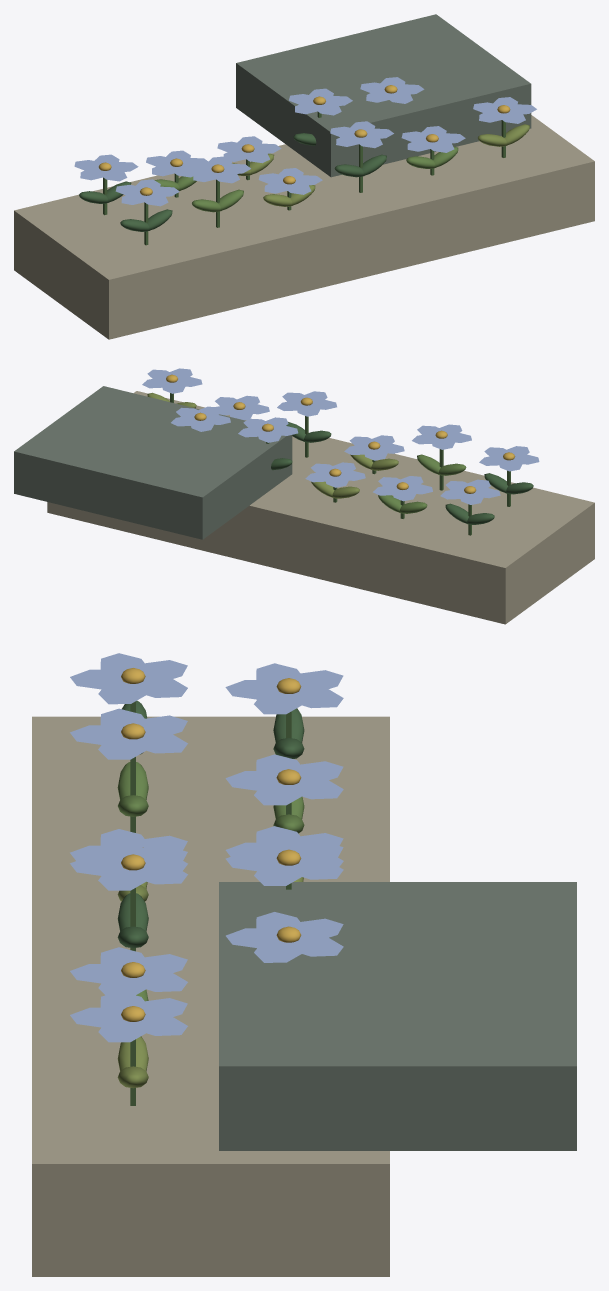
The picture shows the model from 3 angles, top to bottom: view 1: azimuth 30°, elevation 25°; view 2: azimuth 150°, elevation 25°; view 3: azimuth 270°, elevation 25°; orthographic projection. The views are drawn at different scales.
Visible parts, largest first — view 1: climb-flowers-7-0, climb-flowers-7-1, 화단 08; view 2: climb-flowers-7-0, climb-flowers-7-1, 화단 08; view 3: climb-flowers-7-0, climb-flowers-7-1, 화단 08.
Boxes of the visible parts, x1,y1,x2,y2 form: climb-flowers-7-0: (14,115,594,339); climb-flowers-7-1: (236,14,531,177); 화단 08: (74,77,536,245); climb-flowers-7-0: (47,391,594,624); climb-flowers-7-1: (14,386,292,539); 화단 08: (142,368,539,535); climb-flowers-7-0: (32,716,389,1276); climb-flowers-7-1: (219,882,576,1150); 화단 08: (70,653,343,1105).
Bounding box in the file's own units: 3.4 × 0.8325 × 1.75.
